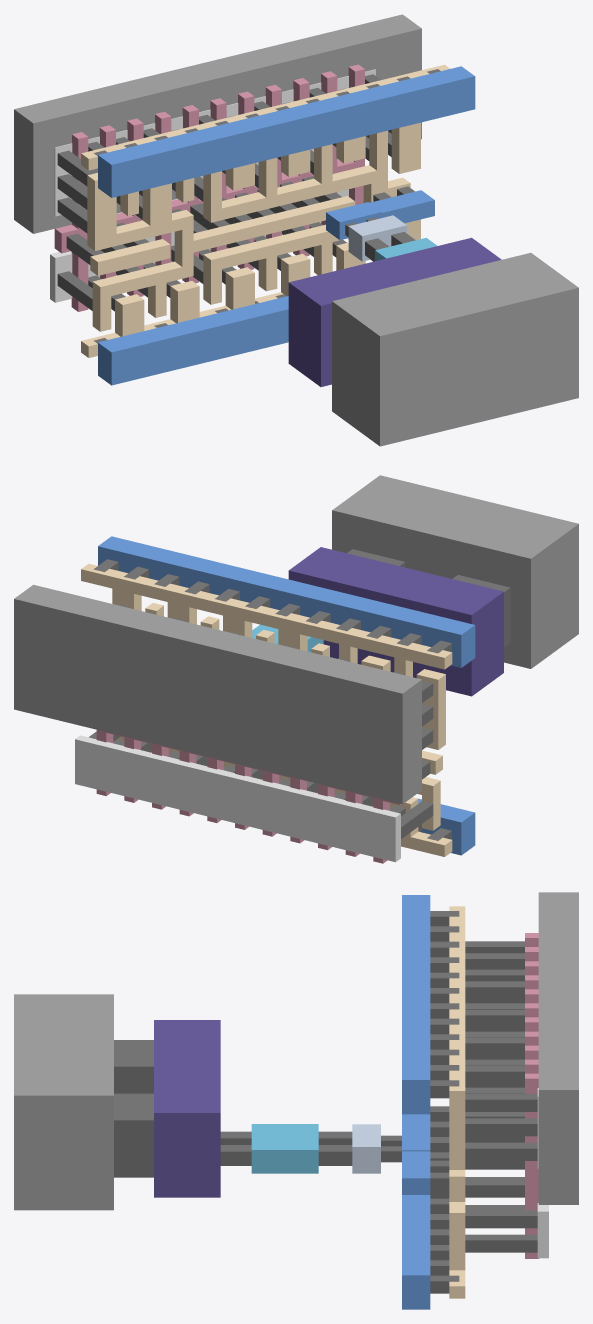
Rendered from sky130_fd_sc_hd__probe_p_8.gds.gltf.
3 renders of one model, top to bottom at view 1: azimuth 30°, elevation 25°; view 2: azimuth 150°, elevation 25°; view 3: azimuth 270°, elevation 25°, orthographic. The views are drawn at different scales.
Parts seen in each view (by area): view 1: sky130_fd_sc_hd__probe_p_8_met5, sky130_fd_sc_hd__probe_p_8_li1, sky130_fd_sc_hd__probe_p_8_met1, sky130_fd_sc_hd__probe_p_8_nwell, sky130_fd_sc_hd__probe_p_8_met4, sky130_fd_sc_hd__probe_p_8_licon, sky130_fd_sc_hd__probe_p_8_poly, sky130_fd_sc_hd__probe_p_8_diff, sky130_fd_sc_hd__probe_p_8_met2, sky130_fd_sc_hd__probe_p_8_mcon, sky130_fd_sc_hd__probe_p_8_met3; view 2: sky130_fd_sc_hd__probe_p_8_nwell, sky130_fd_sc_hd__probe_p_8_met5, sky130_fd_sc_hd__probe_p_8_diff, sky130_fd_sc_hd__probe_p_8_li1, sky130_fd_sc_hd__probe_p_8_met1, sky130_fd_sc_hd__probe_p_8_met4, sky130_fd_sc_hd__probe_p_8_poly, sky130_fd_sc_hd__probe_p_8_mcon, sky130_fd_sc_hd__probe_p_8_licon, sky130_fd_sc_hd__probe_p_8_via4; view 3: sky130_fd_sc_hd__probe_p_8_met5, sky130_fd_sc_hd__probe_p_8_licon, sky130_fd_sc_hd__probe_p_8_nwell, sky130_fd_sc_hd__probe_p_8_met1, sky130_fd_sc_hd__probe_p_8_met4, sky130_fd_sc_hd__probe_p_8_mcon, sky130_fd_sc_hd__probe_p_8_li1, sky130_fd_sc_hd__probe_p_8_via4, sky130_fd_sc_hd__probe_p_8_met3, sky130_fd_sc_hd__probe_p_8_poly, sky130_fd_sc_hd__probe_p_8_met2, sky130_fd_sc_hd__probe_p_8_via2 (+3 smaller).
Boxes of the visible parts, x1,y1,x2,y2 form: sky130_fd_sc_hd__probe_p_8_met5: (332,252,578,446); sky130_fd_sc_hd__probe_p_8_li1: (81,64,449,357); sky130_fd_sc_hd__probe_p_8_met1: (98,66,475,385); sky130_fd_sc_hd__probe_p_8_nwell: (14,14,421,233); sky130_fd_sc_hd__probe_p_8_met4: (288,237,501,386); sky130_fd_sc_hd__probe_p_8_licon: (57,74,391,311); sky130_fd_sc_hd__probe_p_8_poly: (54,64,364,311); sky130_fd_sc_hd__probe_p_8_diff: (50,69,375,302); sky130_fd_sc_hd__probe_p_8_met2: (348,215,406,261); sky130_fd_sc_hd__probe_p_8_mcon: (93,69,440,343); sky130_fd_sc_hd__probe_p_8_met3: (375,237,437,261); sky130_fd_sc_hd__probe_p_8_nwell: (14,584,421,804); sky130_fd_sc_hd__probe_p_8_met5: (332,475,578,668); sky130_fd_sc_hd__probe_p_8_diff: (75,735,400,862); sky130_fd_sc_hd__probe_p_8_li1: (81,563,452,856); sky130_fd_sc_hd__probe_p_8_met1: (98,536,475,855); sky130_fd_sc_hd__probe_p_8_met4: (288,547,503,696); sky130_fd_sc_hd__probe_p_8_poly: (96,730,400,863); sky130_fd_sc_hd__probe_p_8_mcon: (93,559,451,840); sky130_fd_sc_hd__probe_p_8_licon: (89,604,433,838); sky130_fd_sc_hd__probe_p_8_via4: (347,549,510,647); sky130_fd_sc_hd__probe_p_8_met5: (14,994,113,1210); sky130_fd_sc_hd__probe_p_8_licon: (465,941,537,1252); sky130_fd_sc_hd__probe_p_8_nwell: (538,892,578,1204); sky130_fd_sc_hd__probe_p_8_met1: (402,895,430,1309); sky130_fd_sc_hd__probe_p_8_met4: (154,1020,220,1197); sky130_fd_sc_hd__probe_p_8_mcon: (430,911,459,1293); sky130_fd_sc_hd__probe_p_8_li1: (449,906,465,1298); sky130_fd_sc_hd__probe_p_8_via4: (114,1040,153,1177); sky130_fd_sc_hd__probe_p_8_met3: (251,1124,318,1173); sky130_fd_sc_hd__probe_p_8_poly: (525,933,539,1258); sky130_fd_sc_hd__probe_p_8_met2: (352,1124,380,1173); sky130_fd_sc_hd__probe_p_8_via2: (318,1131,352,1165).
Size of the model in its own units: 5.9 by 3.2 by 7.13.
